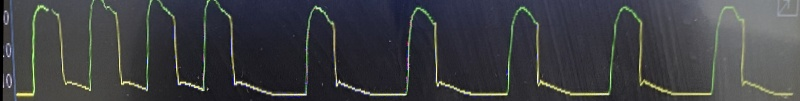normal_pressure: (11, 0, 789, 101)
